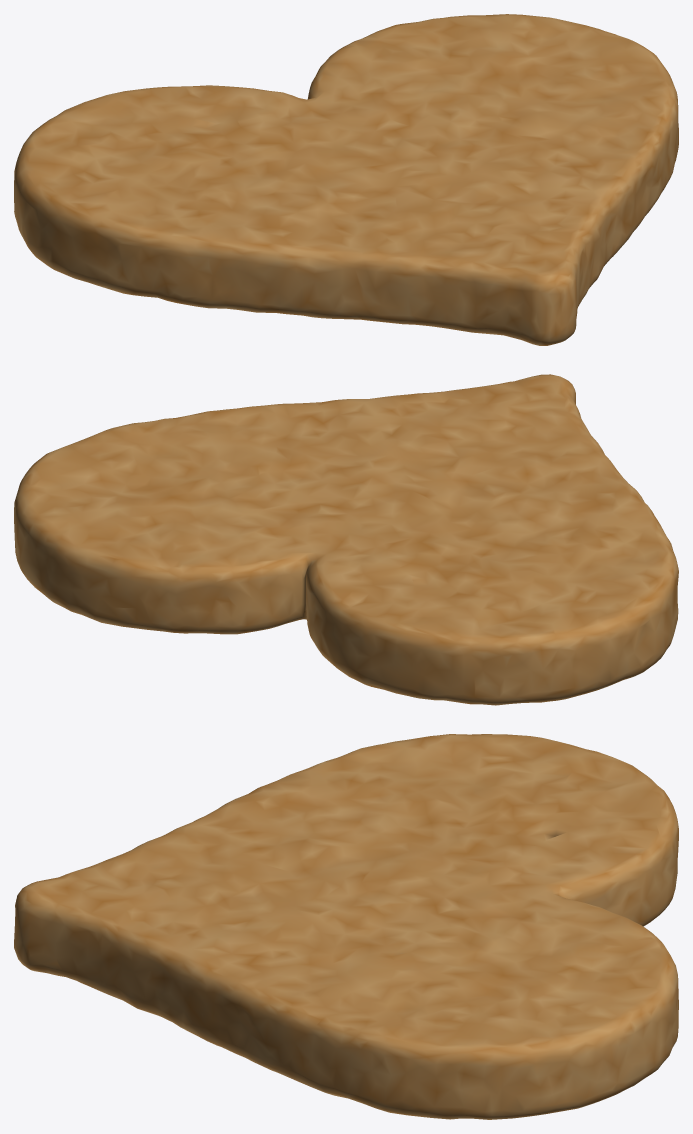
The model's file is herz.glb.
3 views of the same model, one above another, from view 1: azimuth 30°, elevation 25°; view 2: azimuth 150°, elevation 25°; view 3: azimuth 270°, elevation 25° (orthographic). The views are drawn at different scales.
Parts seen in each view (by area): view 1: cookie; view 2: cookie; view 3: cookie.
Boxes of the visible parts, x1,y1,x2,y2 form: cookie: (14, 14, 678, 345); cookie: (14, 374, 678, 705); cookie: (14, 734, 678, 1119).
Size of the model in its own units: 0.087 by 0.00974 by 0.0753.
